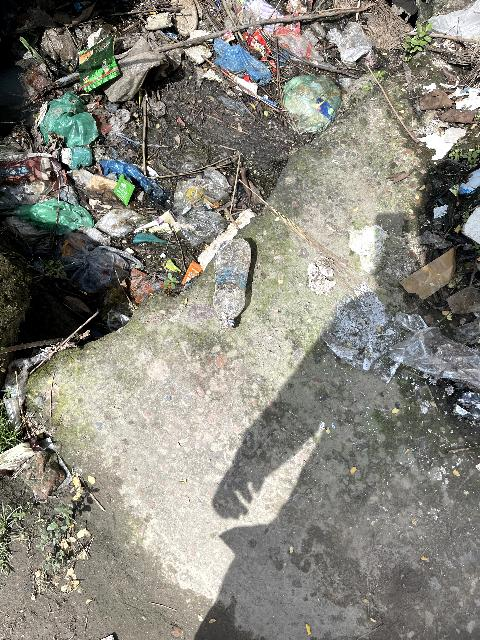polythene: (17, 51, 230, 308)
